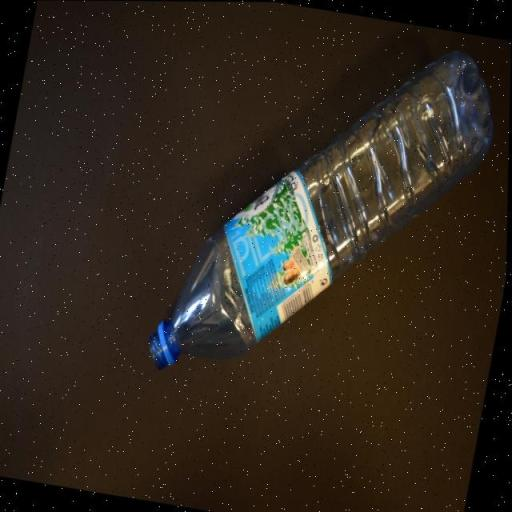plastic: (144, 1, 510, 418)
